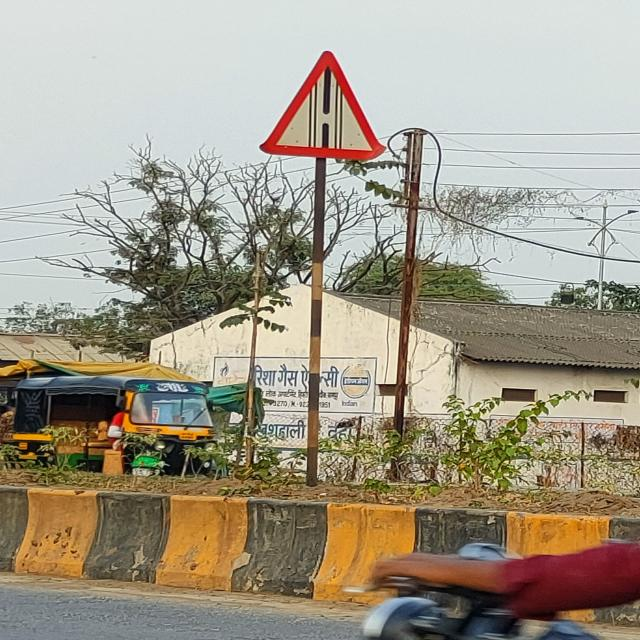ferry: (260, 51, 383, 161)
